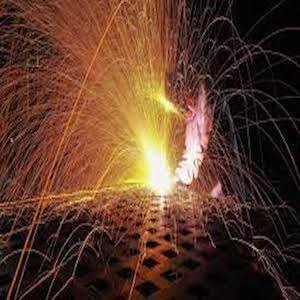heat: (13, 70, 187, 199)
